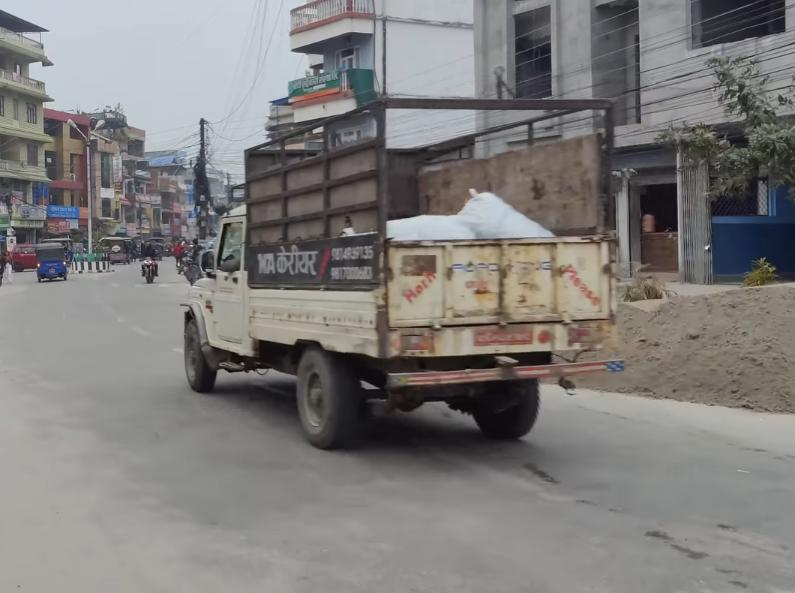auto_rickshaw: (13, 235, 78, 291)
bike: (133, 236, 161, 284)
transport_vehicle: (170, 97, 620, 457)
